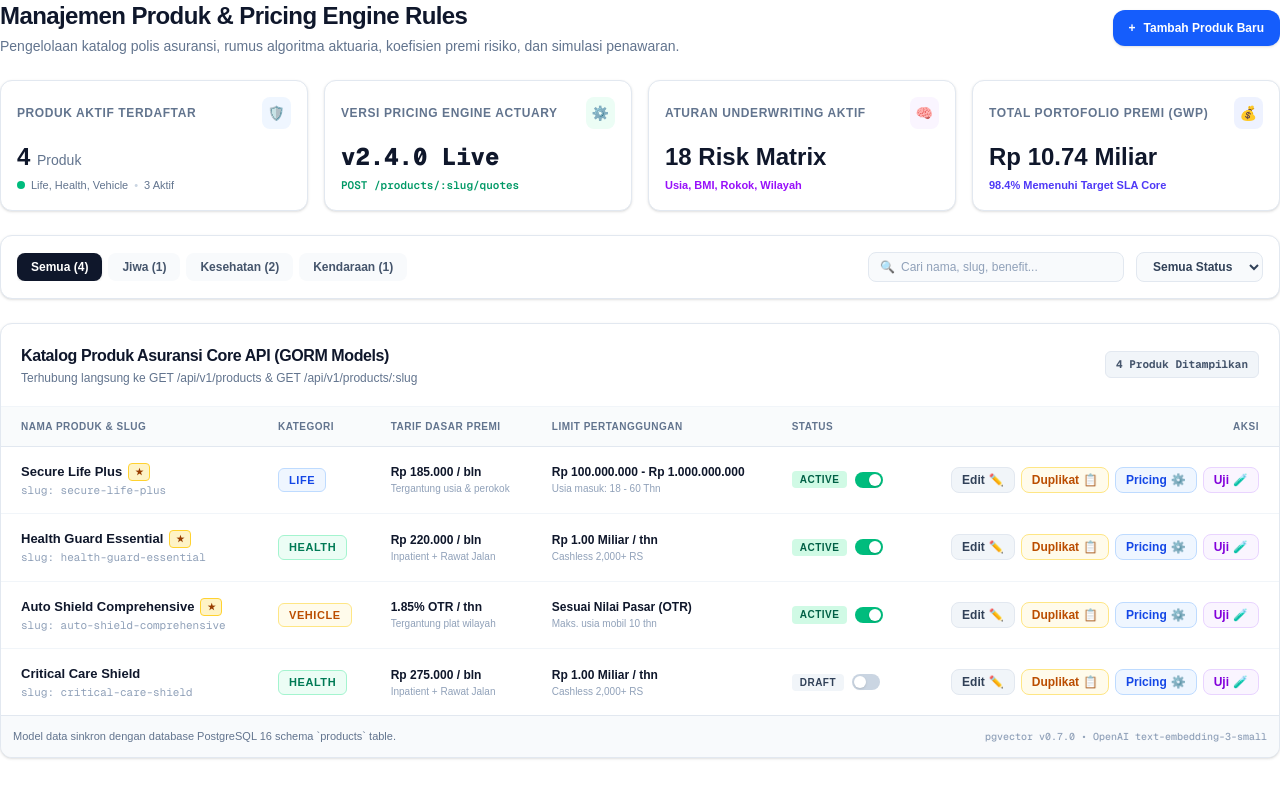
Test: ProductsPage & ProductManagementWorkbench › should open and close the pricing rules modal and allow saving
The width and height of the screenshot is (1280, 800).
Click the button with aria-label "Aturan Pricing & Aktuaria" at coordinates (1156, 480), box [1115,467,1197,493]
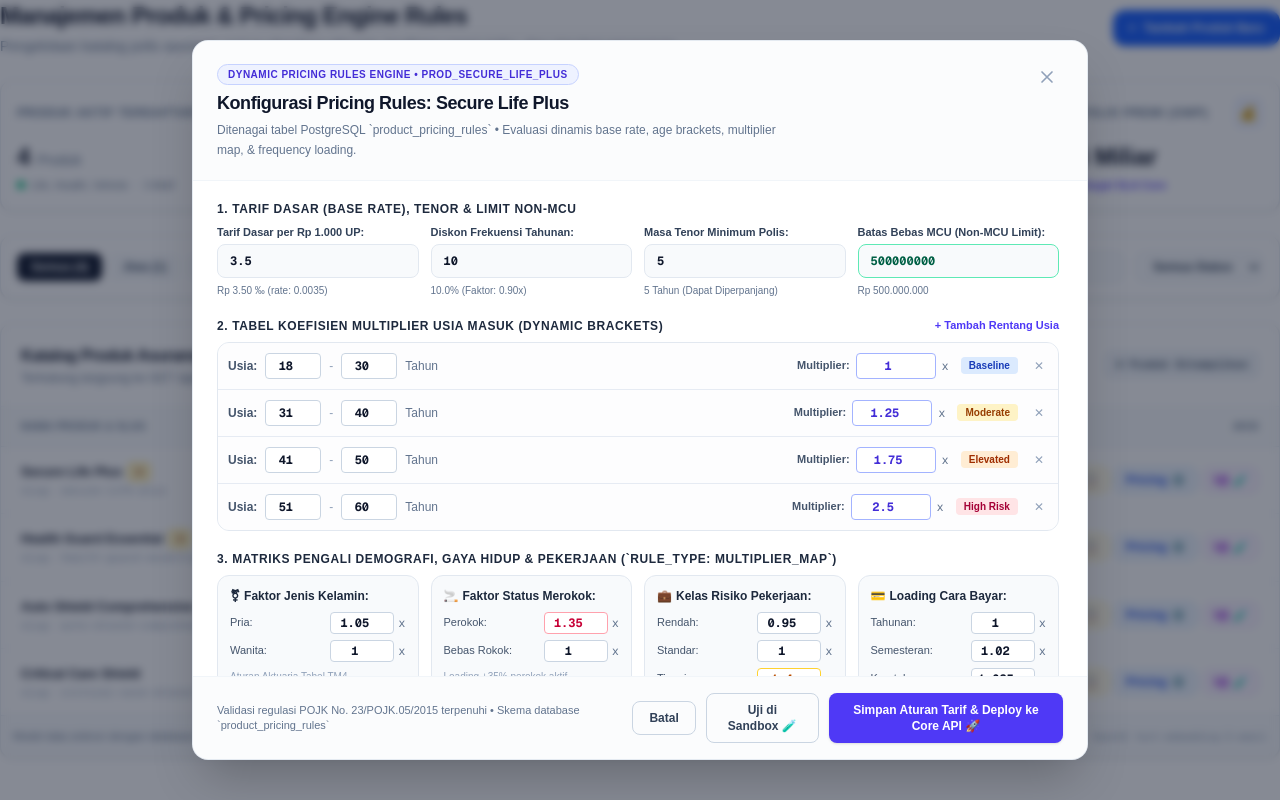
expect the heading "Konfigurasi Pricing Rules: Secure Life Plus" is shown: met, box [217,93,569,113]
expect the text "2. TABEL KOEFISIEN MULTIPLIER USIA MASUK (DYNAMIC BRACKETS)" is shown: met, box [217,318,663,334]
Click the button "Simpan Aturan Tarif & Deploy ke Core API 🚀" at coordinates (946, 718), box [829,693,1063,743]
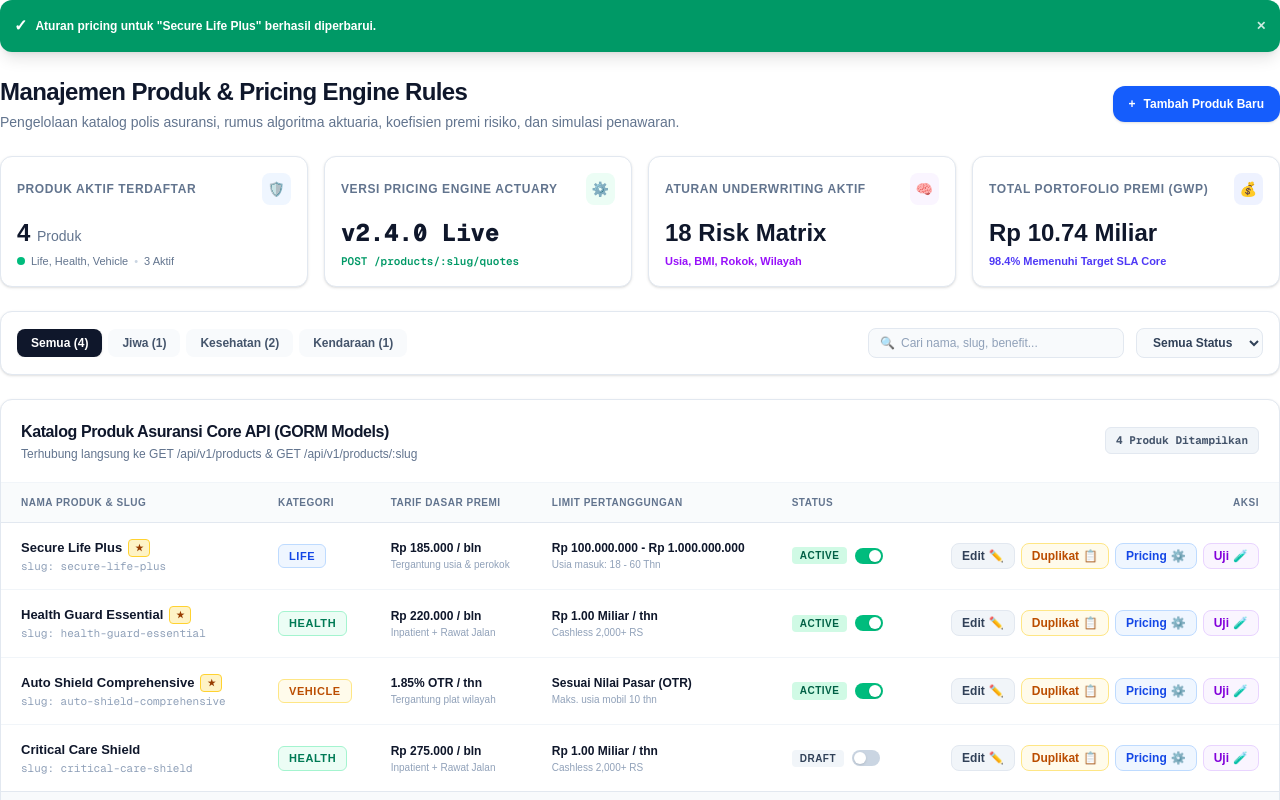
expect the text "Aturan pricing untuk \"Secure Life Plus\" berhasil diperbarui." is shown: met, box [35,18,376,34]
